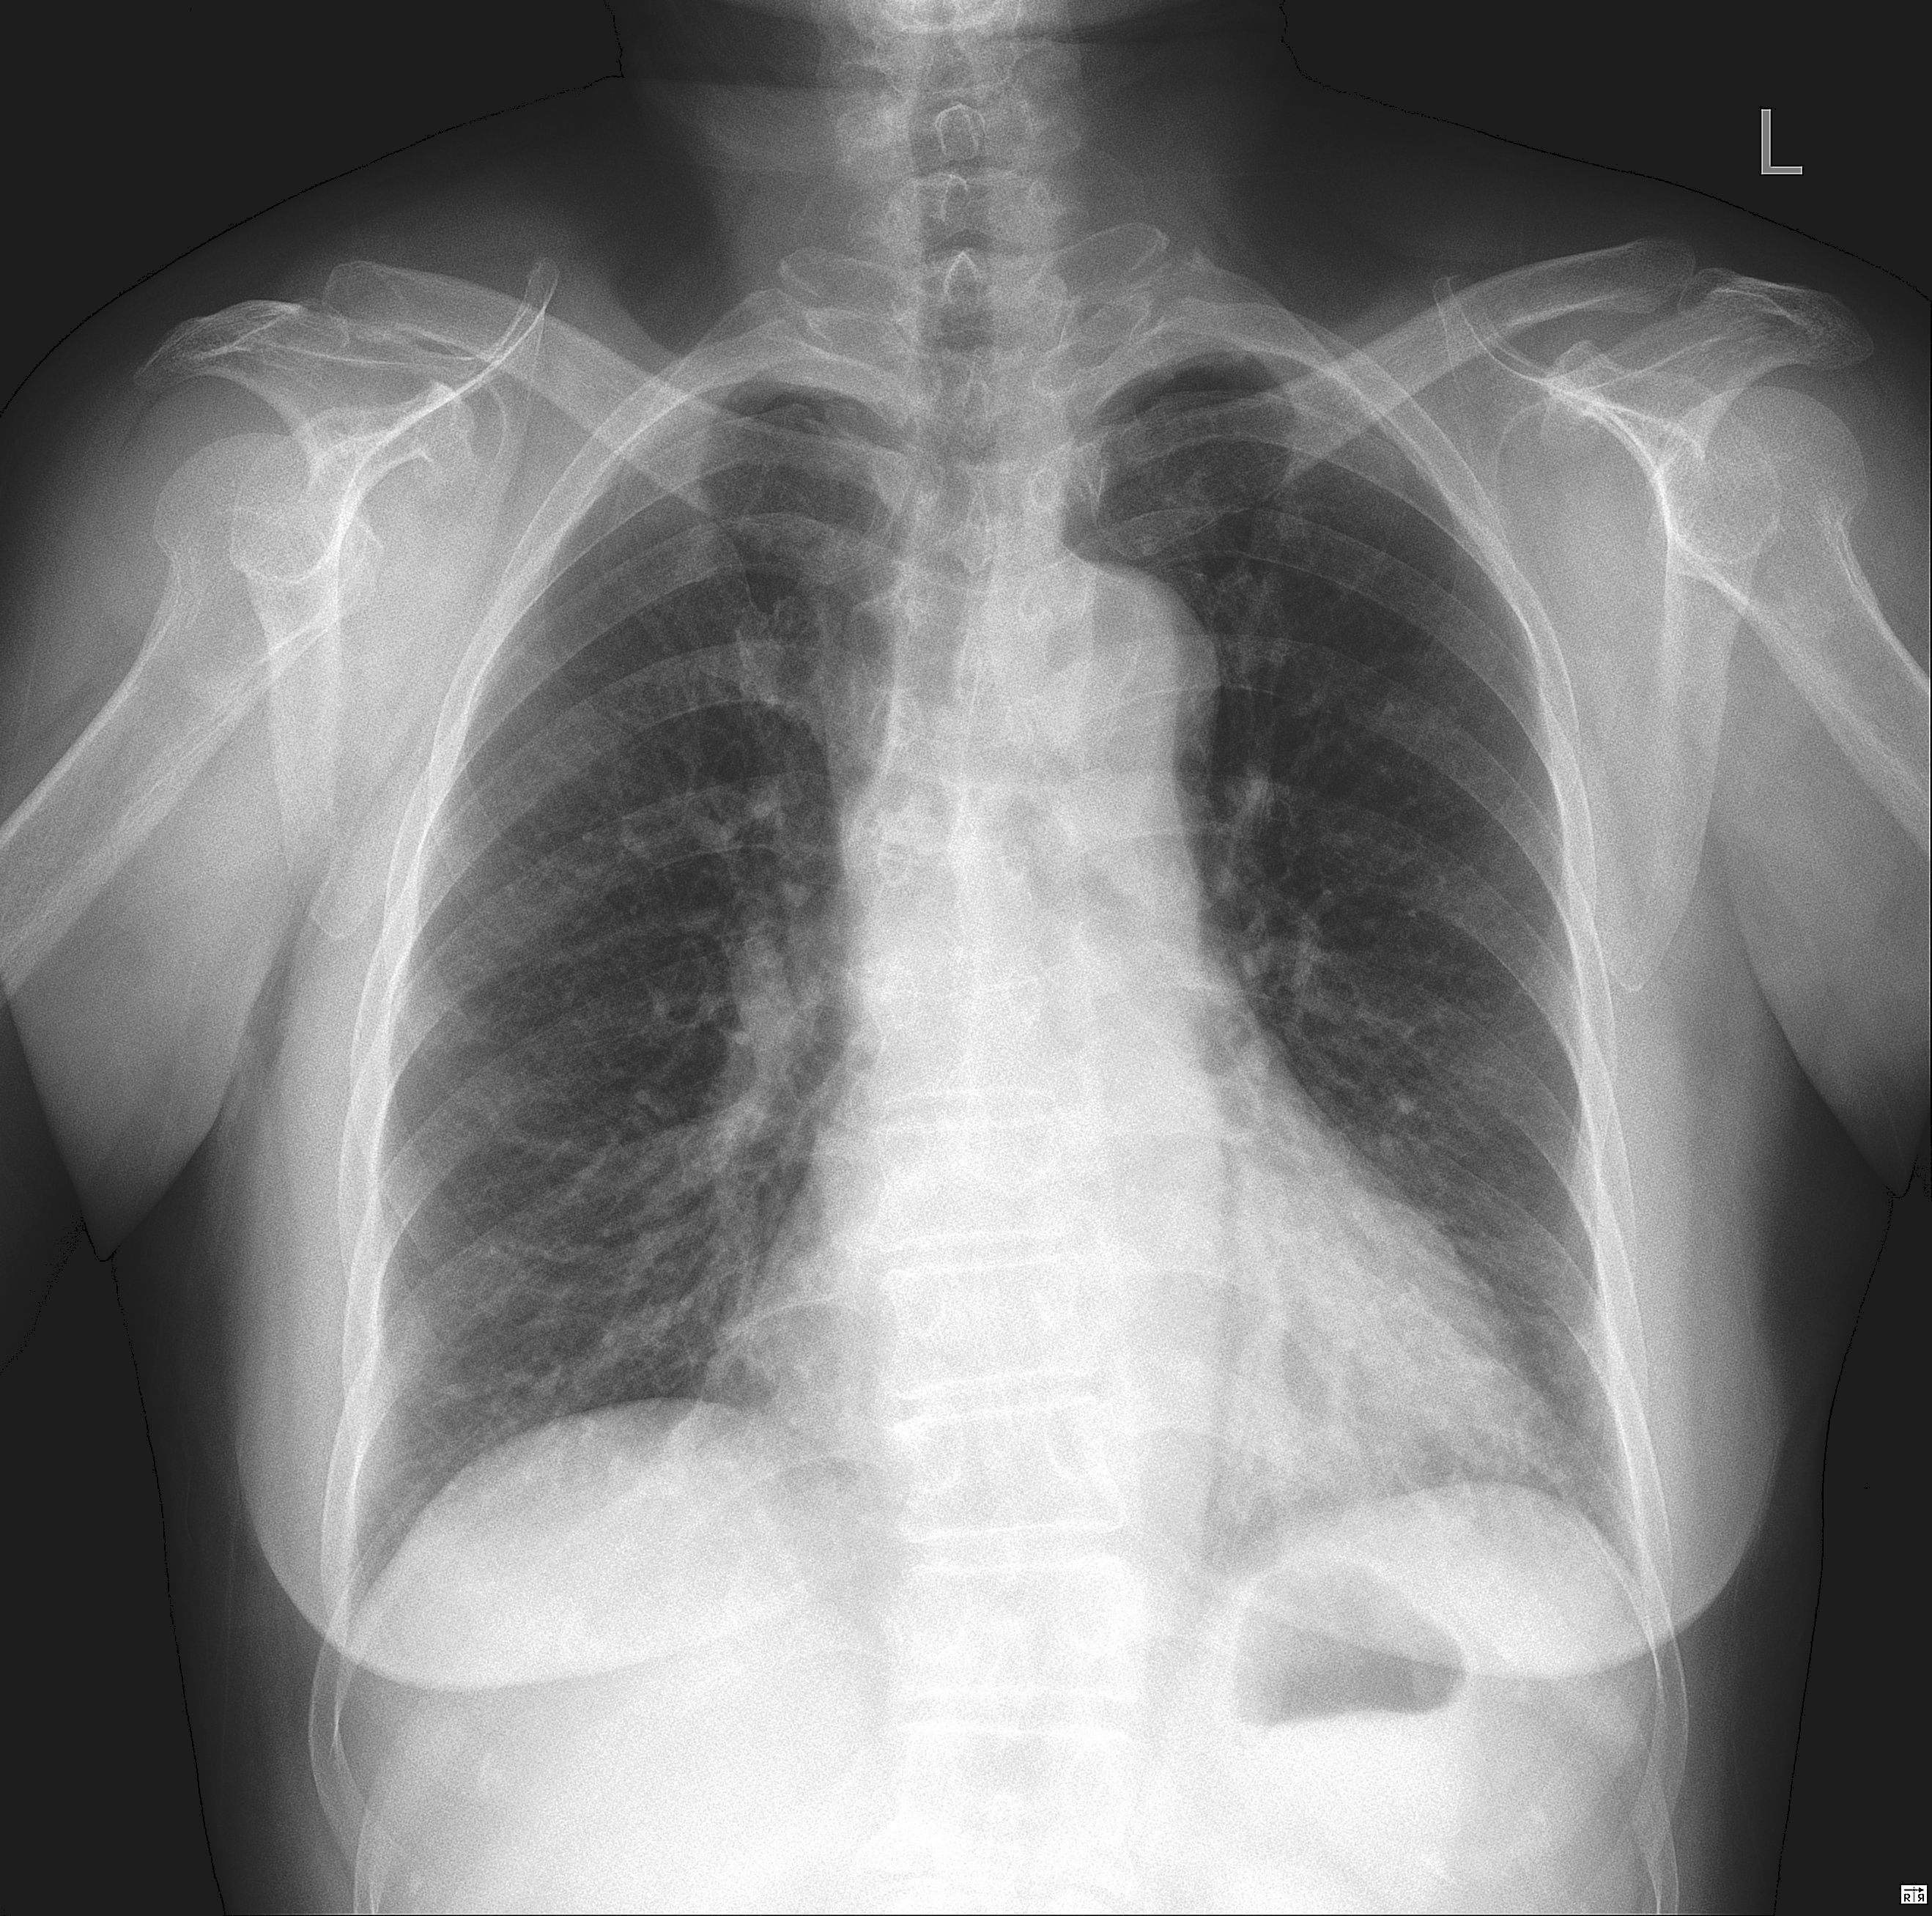nodule: (386, 963, 511, 1083)
